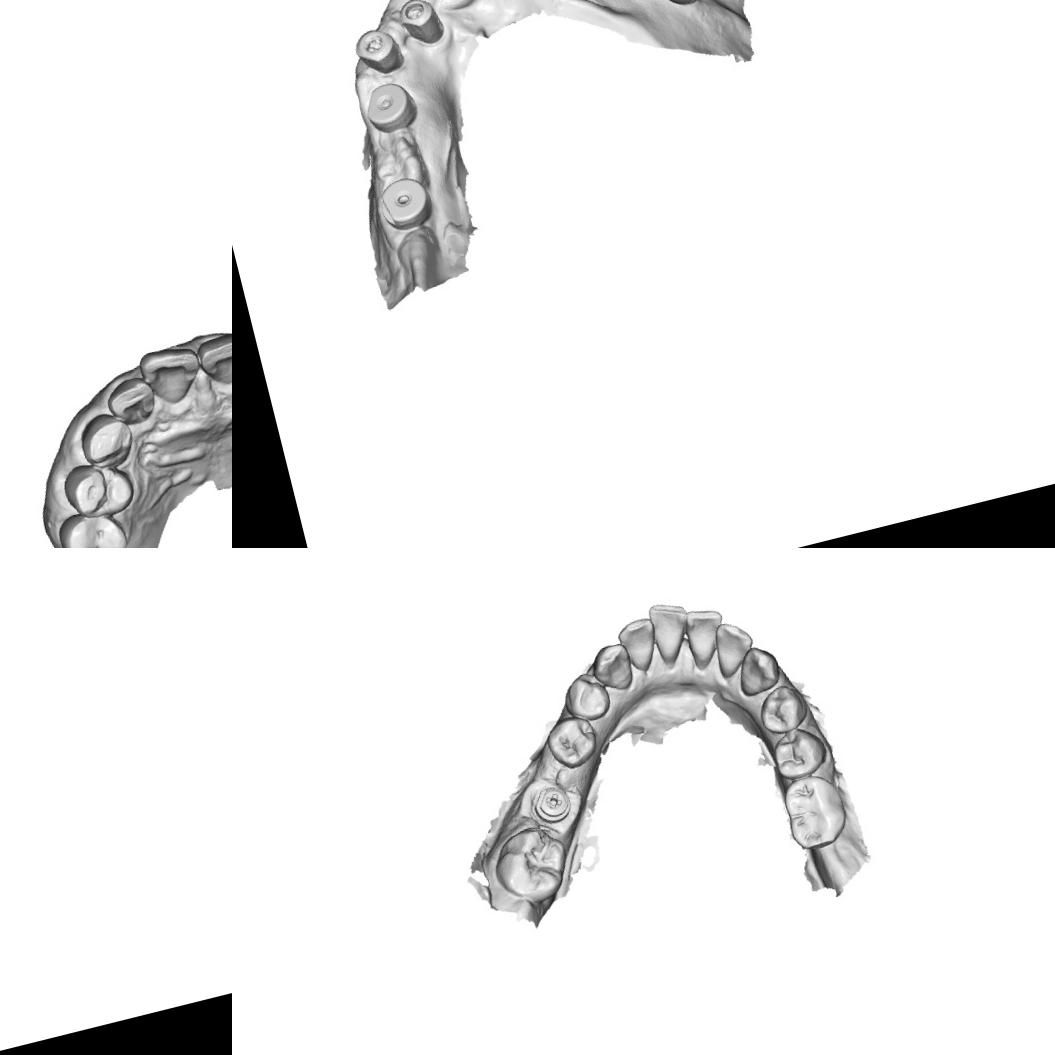canine: (72, 405, 140, 473), (584, 638, 638, 698), (730, 639, 784, 698)
implant: (372, 172, 435, 234), (361, 76, 417, 134), (350, 21, 404, 78), (395, 0, 444, 47)
implant_plus: (527, 779, 575, 827)
incisor: (135, 340, 209, 412), (644, 596, 698, 664), (100, 372, 160, 430), (706, 614, 760, 678), (679, 602, 733, 666), (613, 614, 663, 678), (193, 324, 232, 390)
molar: (484, 817, 578, 913), (776, 768, 854, 856)
premolar: (58, 452, 140, 524), (764, 720, 831, 783), (51, 500, 135, 548), (541, 710, 604, 772), (752, 678, 815, 738), (557, 667, 615, 727)
